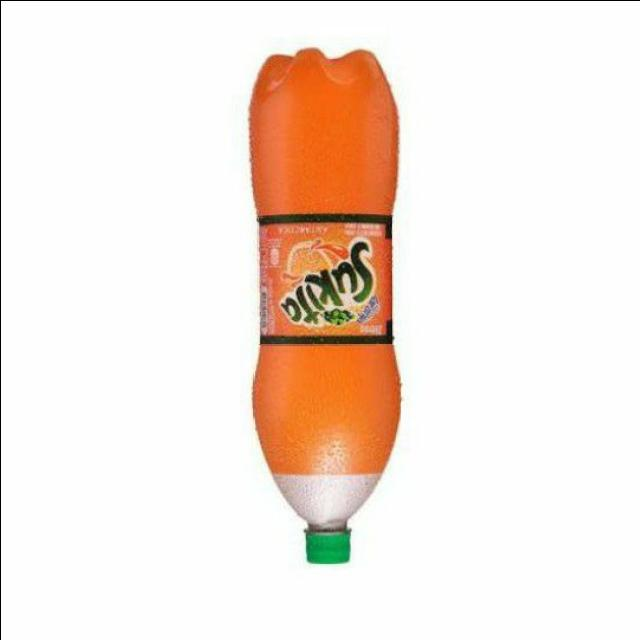bottom: (249, 49, 397, 215)
label: (257, 214, 390, 343)
neck: (253, 344, 399, 563)
